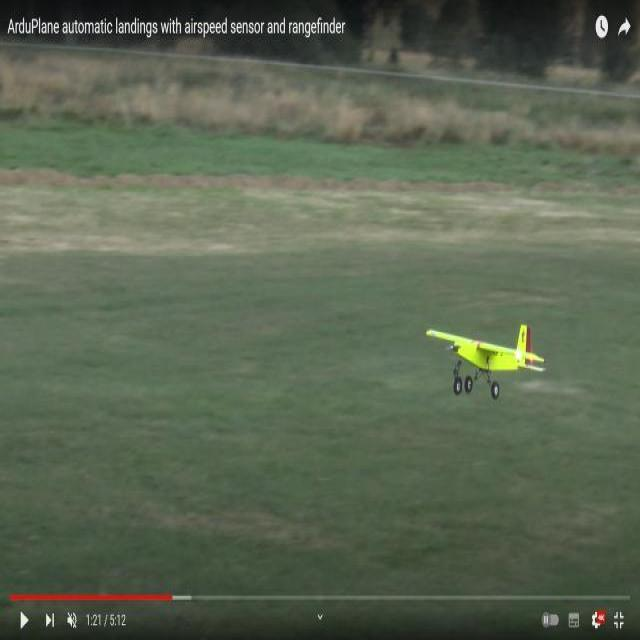iha: (454, 355, 515, 371)
